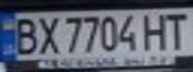0: (100, 12, 121, 53)
4: (118, 11, 142, 52)
7: (78, 12, 103, 53), (60, 12, 84, 54)
B: (6, 15, 42, 55)
H: (139, 10, 172, 52)
T: (163, 9, 193, 51)
X: (33, 13, 60, 55)
